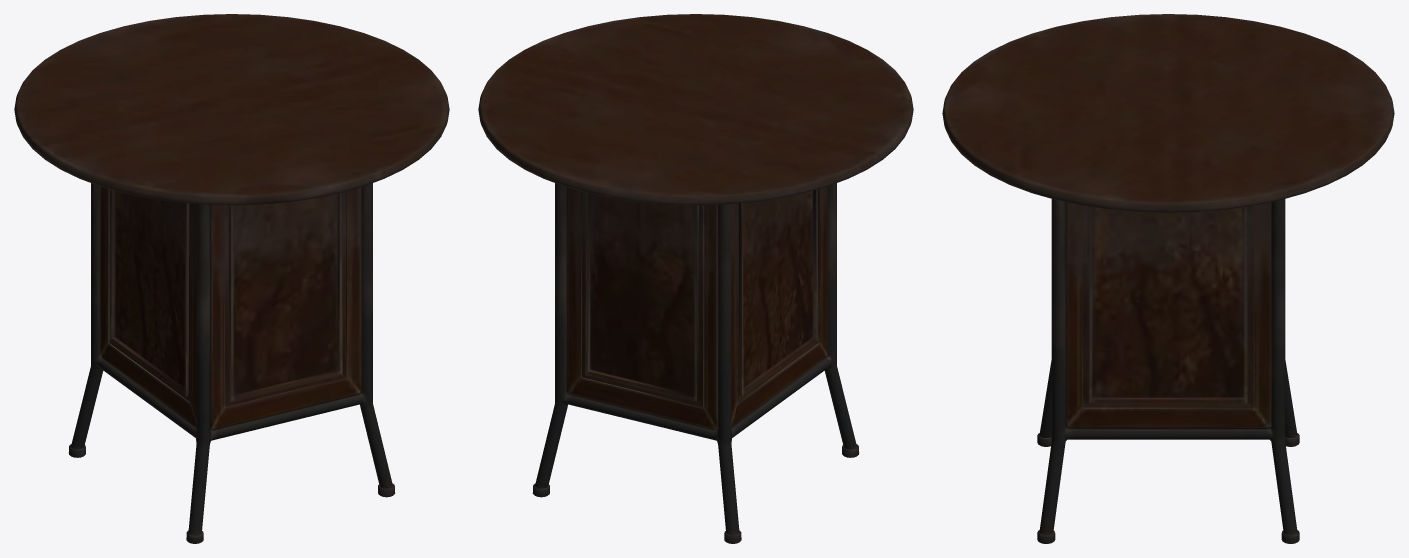
Rendered from round_table.glb.
The picture shows the model from 3 angles, left to right: view 1: azimuth 30°, elevation 25°; view 2: azimuth 150°, elevation 25°; view 3: azimuth 270°, elevation 25°; orthographic projection. The views are drawn at different scales.
Visible parts, largest first — view 1: round_wooden_table_02; view 2: round_wooden_table_02; view 3: round_wooden_table_02.
Part boxes in pixels (bbox=[...]): round_wooden_table_02: bbox=[14, 14, 449, 543]; round_wooden_table_02: bbox=[478, 14, 913, 543]; round_wooden_table_02: bbox=[942, 14, 1394, 543].
Bounding box in the file's own units: 0.7962 × 0.746 × 0.7962.
Materials: 1 (1 with a texture image).
